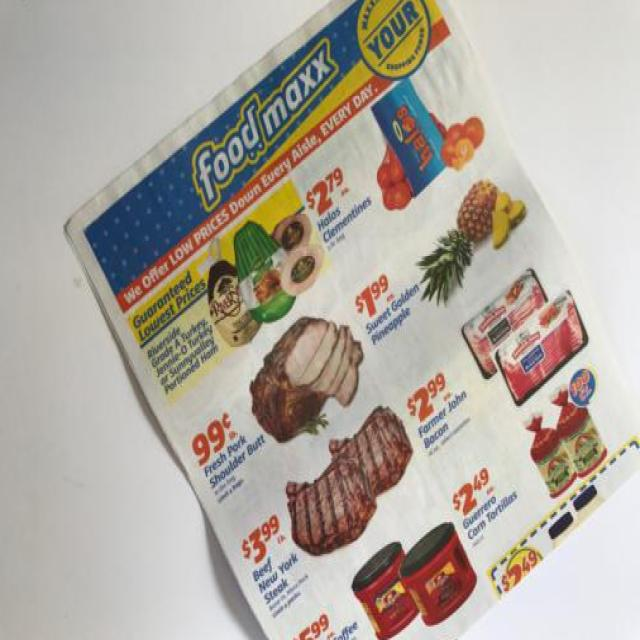kertas: (61, 0, 640, 640)
